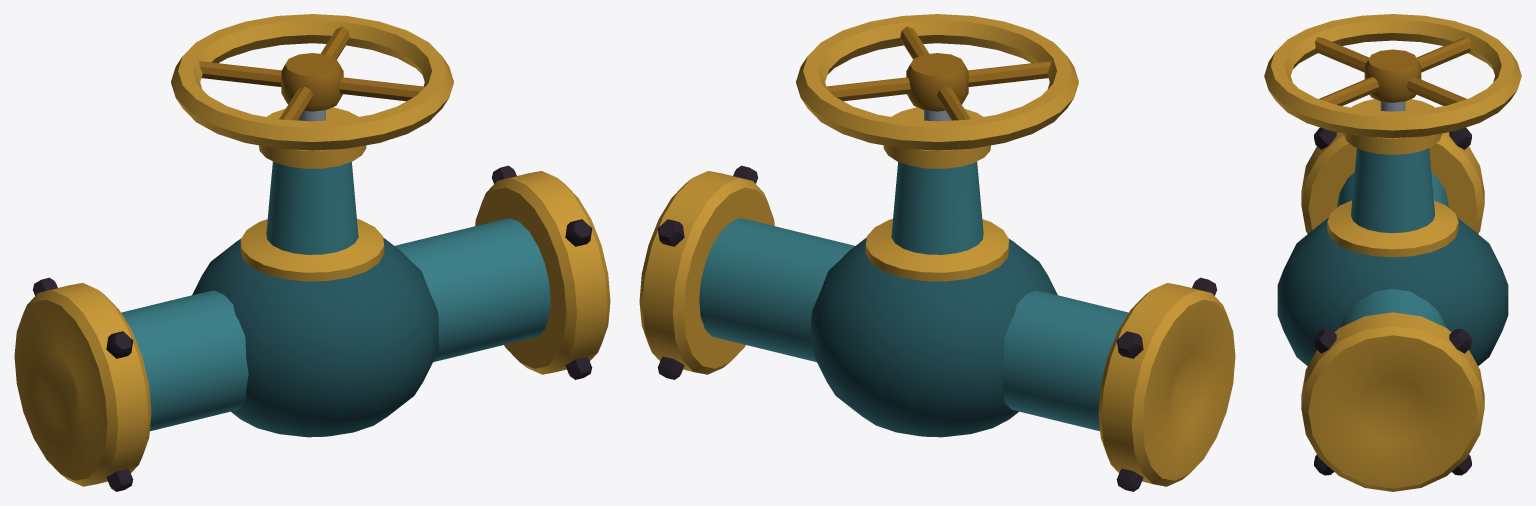
Rendered from Valve_07.glb.
3 renders of one model, left to right at view 1: azimuth 30°, elevation 25°; view 2: azimuth 150°, elevation 25°; view 3: azimuth 270°, elevation 25°, orthographic. The views are drawn at different scales.
Visible parts, largest first — view 1: Valve_07; view 2: Valve_07; view 3: Valve_07.
Part boxes in pixels (x1,y1,x2,y2): Valve_07: (14, 14, 610, 491); Valve_07: (639, 14, 1235, 491); Valve_07: (1264, 14, 1521, 491).
Size of the model in its own units: 2.97 by 2.03 by 1.45.
